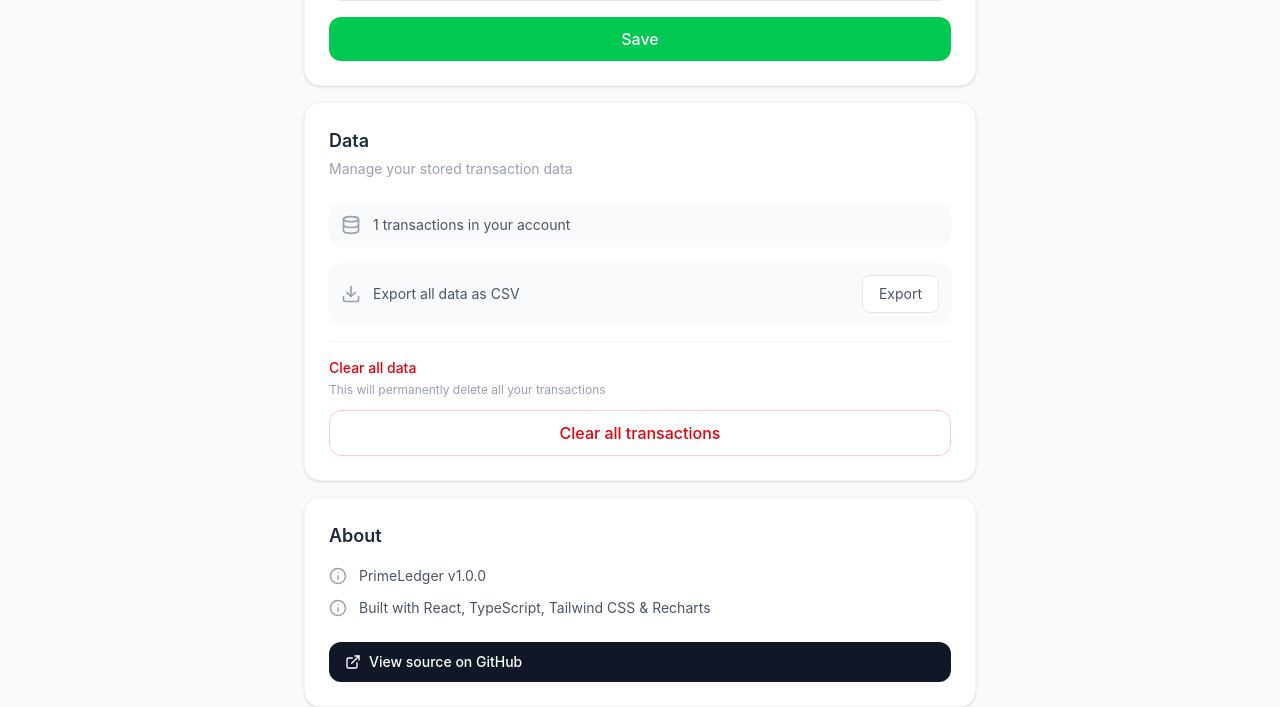
Scenario: SettingsContent destructive confirmation (D-10) › leaves the data alone when the dialog is cancelled
(page scrolled)
Click the button "Clear all transactions": (640, 433) [329, 410, 951, 456]
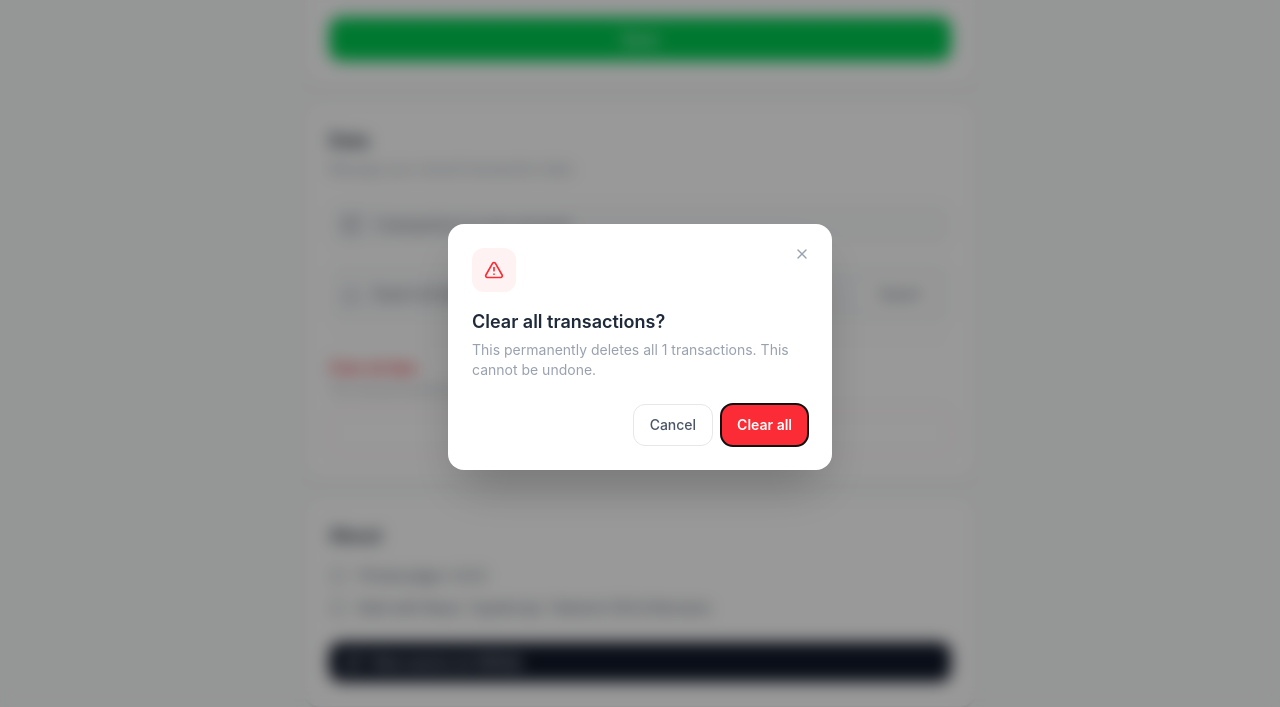
Click the button "Cancel": (673, 425) [633, 404, 713, 446]
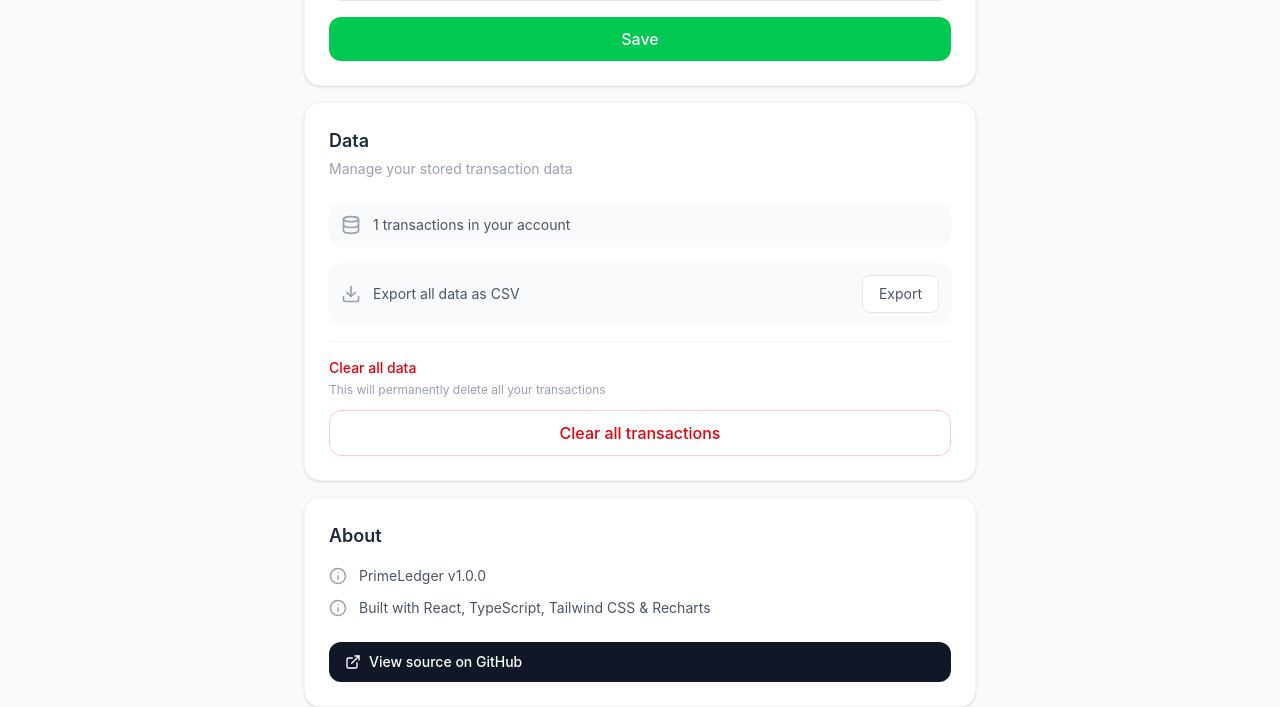
Result: the dialog is gone
